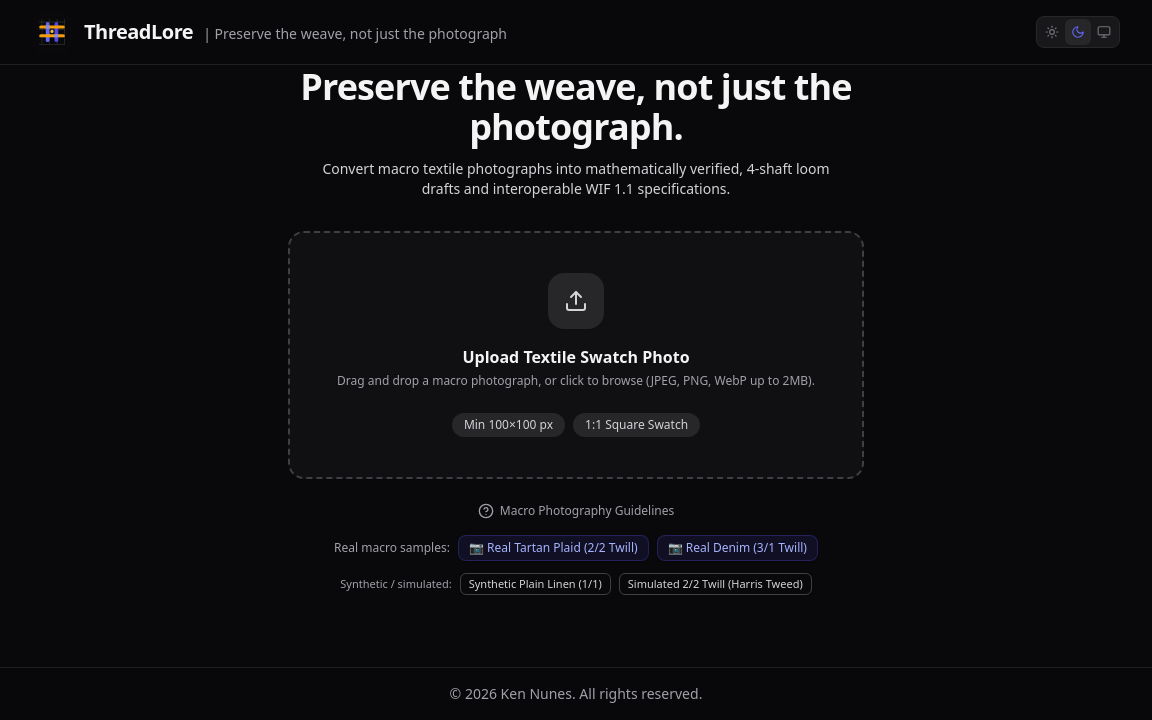
Scenario: Crop Quality Guard and UI Polish › should render real-time crop resolution feedback and live pixel dimensions on SwatchCropper
The image size is (1152, 720).
(page scrolled)
Choose synthetic swatch to enter crop step
What coordinates should you click on to do the following:
click the button "Synthetic Plain Linen (1/1)"
I would click on:
 (535, 584)
Its box is [460, 573, 611, 595].
(page scrolled)
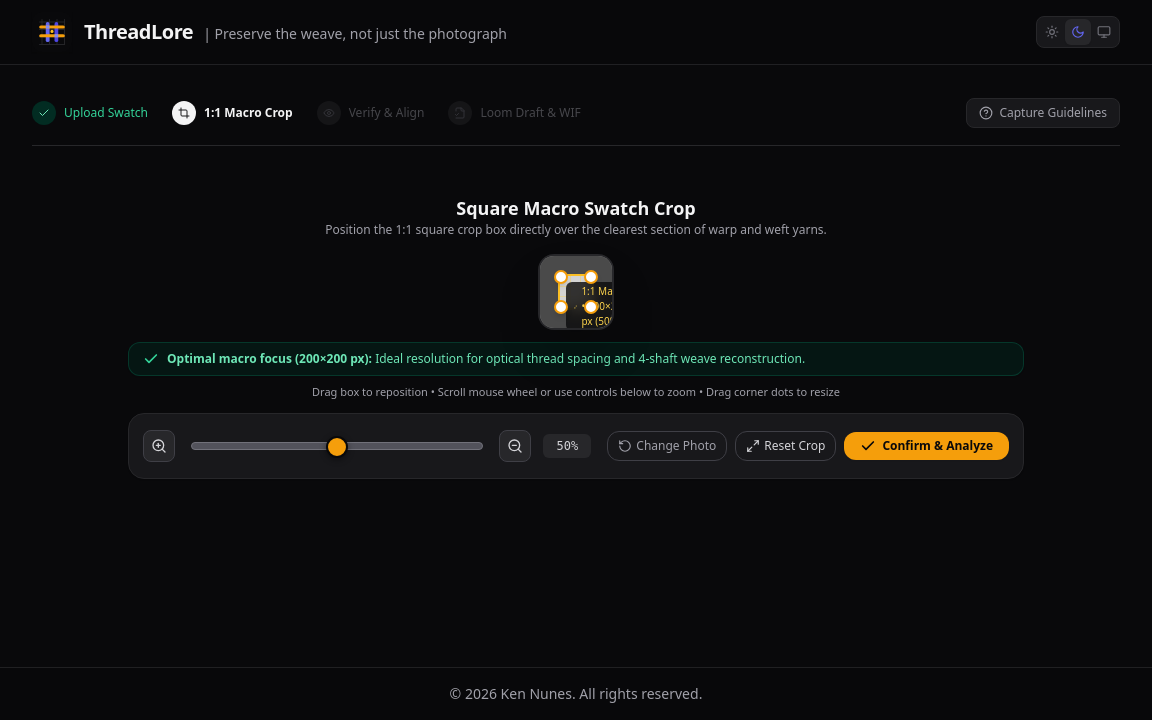
expect the heading "Square Macro Swatch Crop" is shown: met, box [456, 196, 696, 220]
expect the text "1:1 Macro • 200×200 px (50%)" is shown: met, box [581, 284, 614, 329]
expect the text "Optimal macro focus (200×200 px):" is shown: met, box [167, 350, 375, 367]
